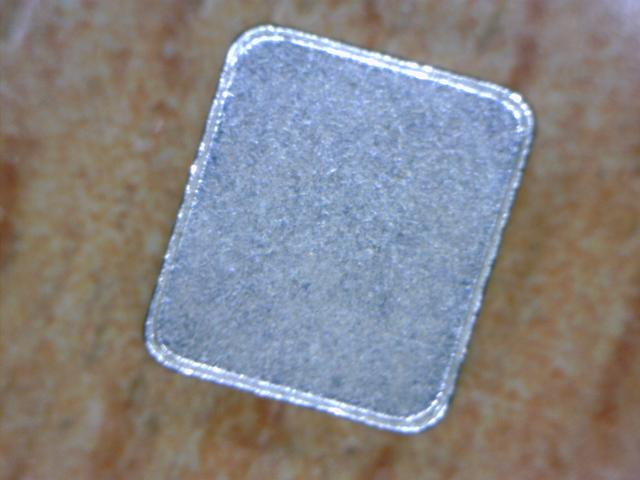nok: (140, 23, 538, 440)
